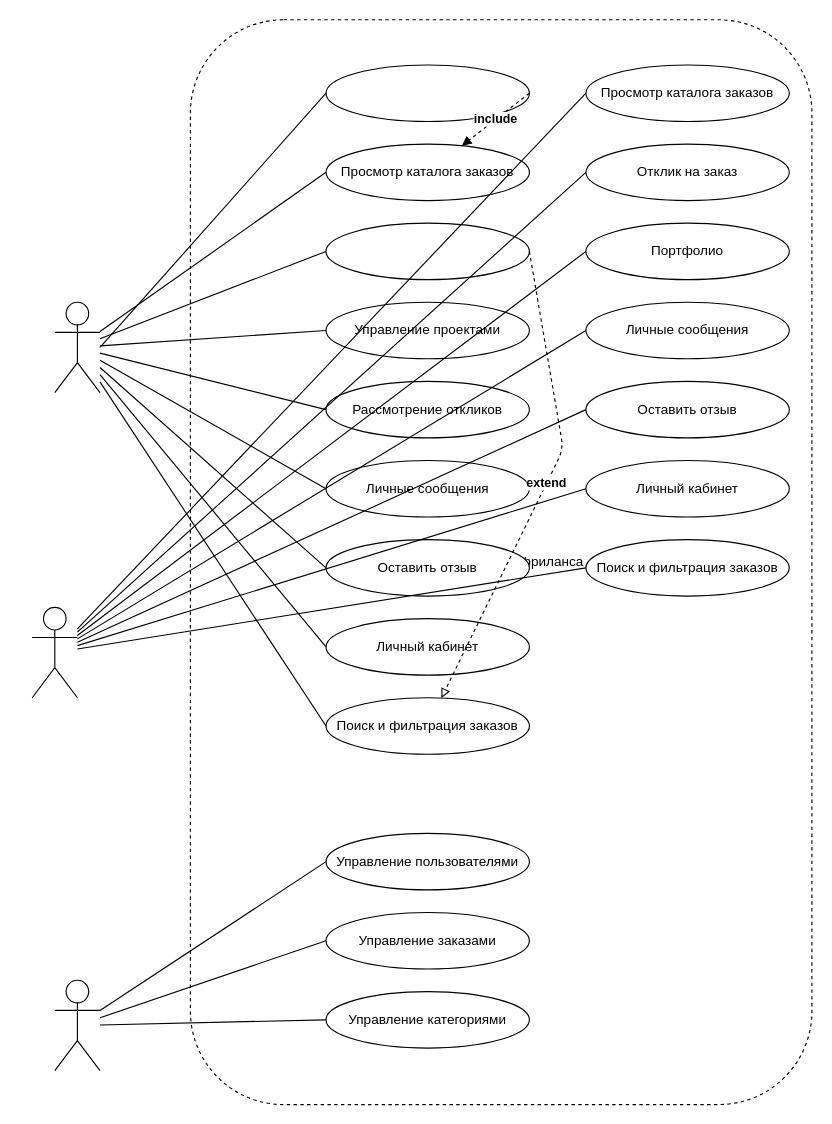
This 832x1124 diagram has some shape labels left out. The centre of each missing label's shape, as x and y in pixels:
"Администратор" goes at (77,1025).
"Заказчик" goes at (77,347).
"Регистрация / Авторизация" goes at (427,92).
"Создание заказа" goes at (427,251).
"Фрилансер" goes at (54,652).
